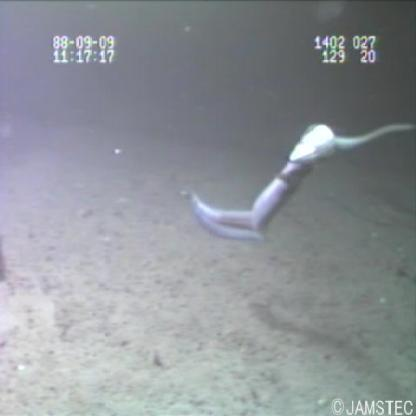Bio: (188, 116, 339, 248), (323, 114, 415, 166)
